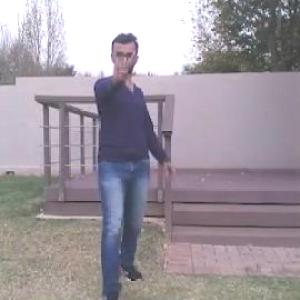takeoff-hand: (104, 45, 140, 89)
